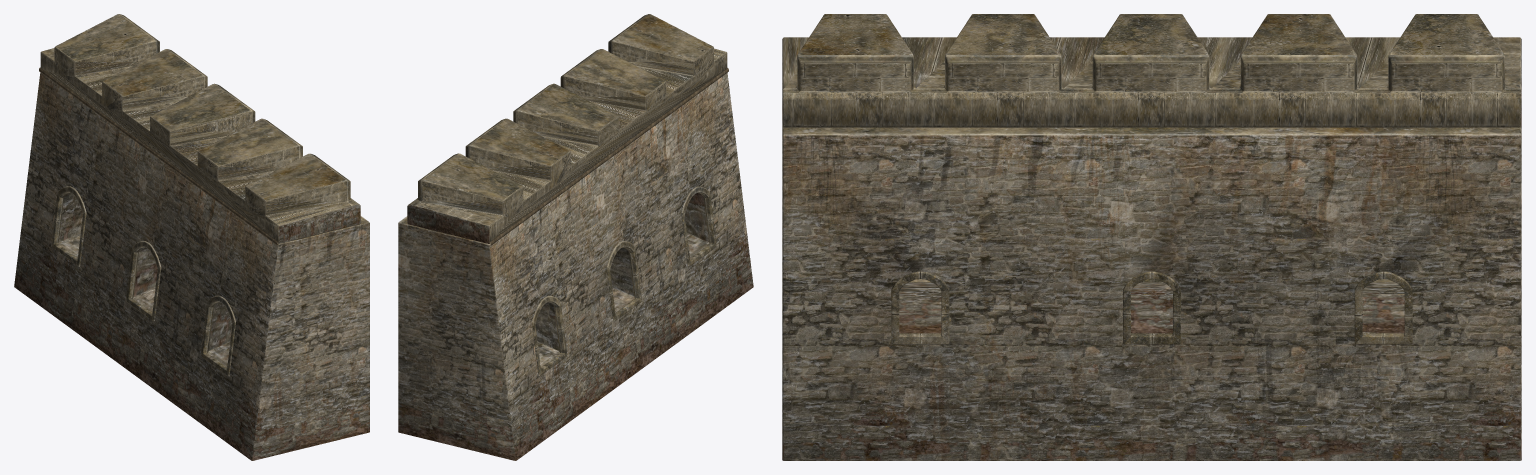
File: modular_fort_01_wall_thick_straight_02.gltf
3 views of the same model, side by side, from view 1: azimuth 30°, elevation 25°; view 2: azimuth 150°, elevation 25°; view 3: azimuth 270°, elevation 25° (orthographic). The views are drawn at different scales.
Visible parts, largest first — view 1: modular_fort_01_wall_thick_straight_02__x; view 2: modular_fort_01_wall_thick_straight_02__x; view 3: modular_fort_01_wall_thick_straight_02__x.
Boxes of the visible parts, x1,y1,x2,y2 form: modular_fort_01_wall_thick_straight_02__x: (14,14,369,460); modular_fort_01_wall_thick_straight_02__x: (398,14,753,460); modular_fort_01_wall_thick_straight_02__x: (782,14,1521,460).
Size of the model in its own units: 4.23 by 8.52 by 14.56.
Materials: 2 (2 with a texture image).
